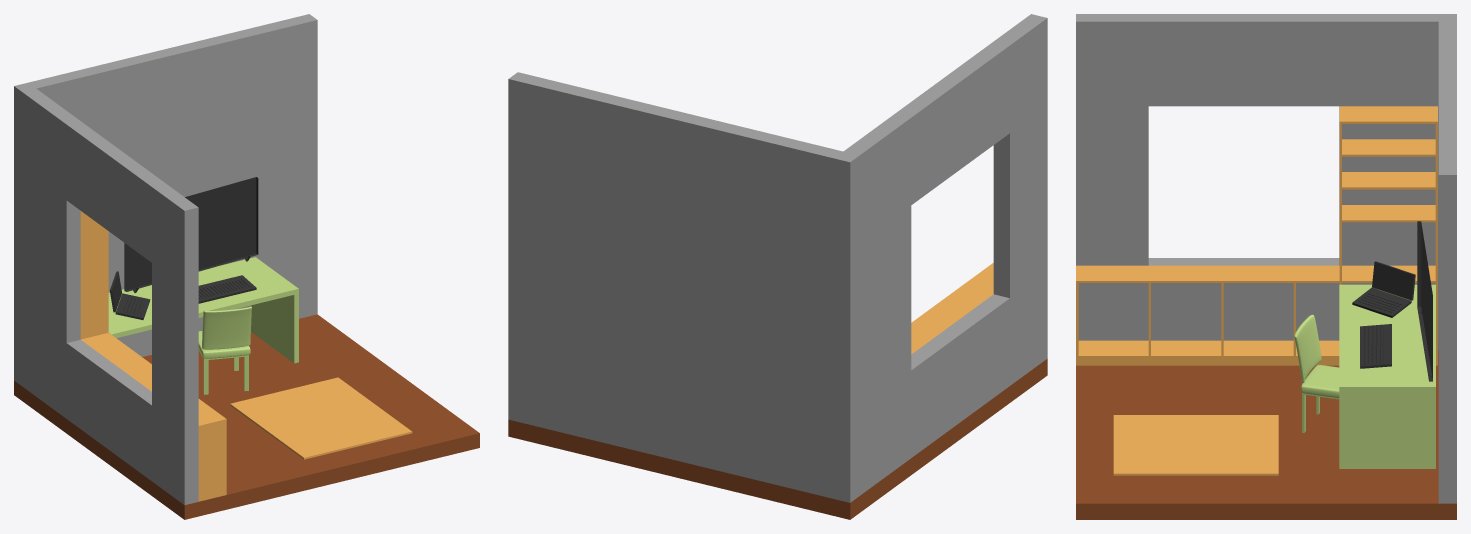
File: room01x2.glb
3 views of the same model, side by side, from view 1: azimuth 30°, elevation 25°; view 2: azimuth 150°, elevation 25°; view 3: azimuth 270°, elevation 25° (orthographic). The views are drawn at different scales.
Visible parts, largest first — view 1: 00 room start.001, 00 room start.003, Plane.004, Cube.006, Cube, Plane.003, Sphere.002, Cube.001, Cube.002; view 2: 00 room start.001, 00 room start.003, Cube.006; view 3: 00 room start.001, 00 room start.003, Cube.006, Cube, Plane.004, Sphere.002, Cube.001, Plane.003, Cube.002.
Part boxes in pixels (bbox=[...]): 00 room start.001: bbox=[14, 14, 317, 505]; 00 room start.003: bbox=[14, 314, 479, 519]; Plane.004: bbox=[230, 377, 412, 459]; Cube.006: bbox=[80, 211, 226, 501]; Cube: bbox=[108, 257, 298, 363]; Plane.003: bbox=[124, 177, 258, 292]; Sphere.002: bbox=[198, 306, 251, 394]; Cube.001: bbox=[109, 271, 150, 319]; Cube.002: bbox=[198, 275, 256, 303]; 00 room start.001: bbox=[508, 14, 1047, 502]; 00 room start.003: bbox=[508, 358, 1047, 519]; Cube.006: bbox=[911, 263, 993, 354]; 00 room start.001: bbox=[1076, 14, 1456, 503]; 00 room start.003: bbox=[1076, 350, 1456, 519]; Cube.006: bbox=[1076, 106, 1437, 365]; Cube: bbox=[1339, 284, 1435, 468]; Plane.004: bbox=[1113, 415, 1278, 475]; Sphere.002: bbox=[1294, 314, 1339, 432]; Cube.001: bbox=[1352, 261, 1415, 317]; Plane.003: bbox=[1417, 221, 1432, 381]; Cube.002: bbox=[1360, 324, 1391, 368].
Bounding box in the file's own units: 3.15 × 3.15 × 3.15.
